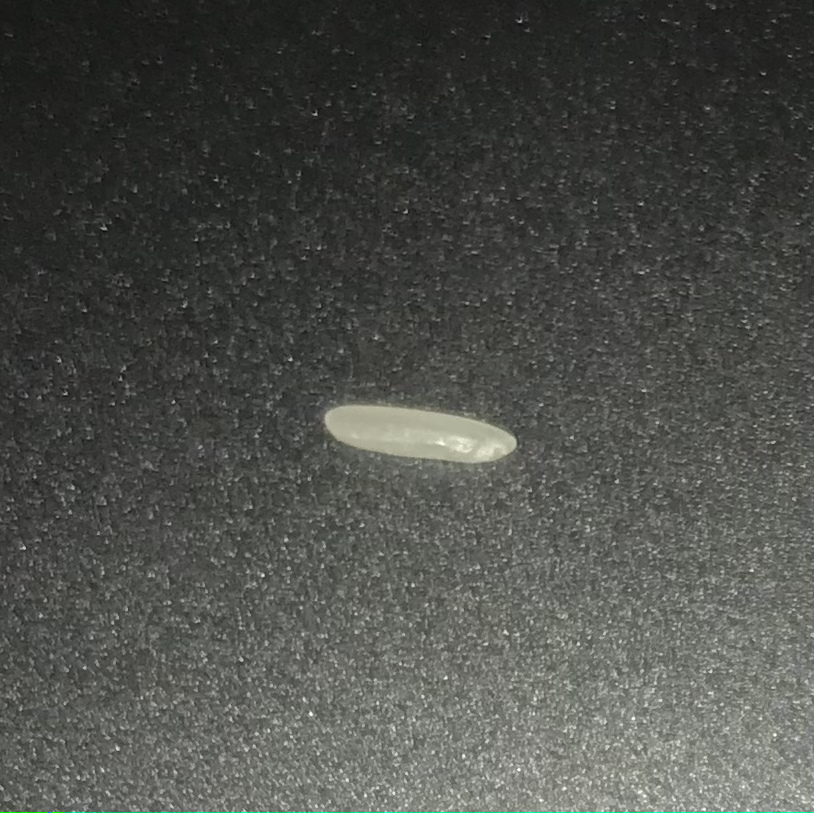Gao Long Lai: (316, 373, 529, 491)
